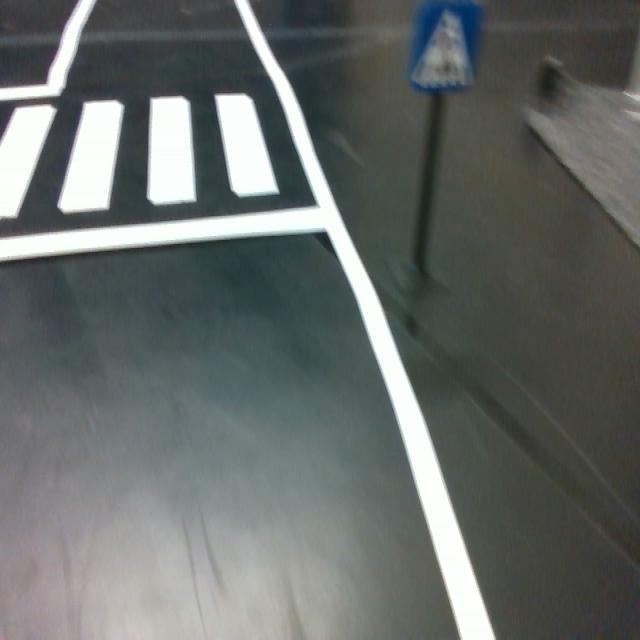crosswalk-sign: (407, 3, 482, 93)
